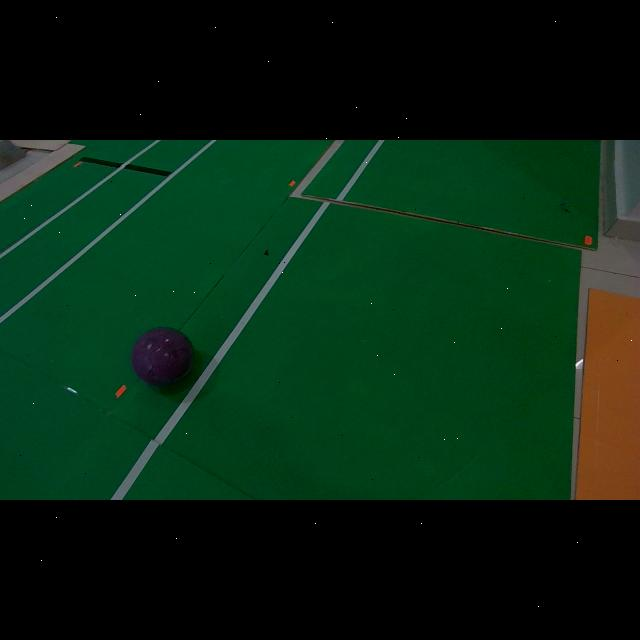P: (132, 327, 192, 388)
